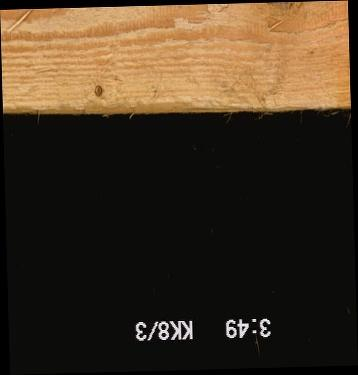dry_knot: (92, 83, 103, 99)
wave: (2, 100, 306, 114)
